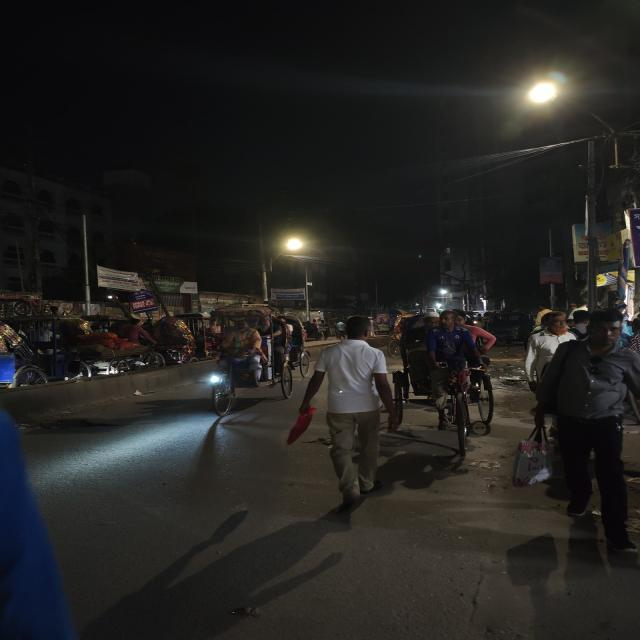pedestrian: (524, 308, 640, 575), (298, 316, 399, 512)
rickshaw: (388, 306, 498, 468), (205, 303, 306, 416), (0, 311, 78, 393), (141, 316, 197, 362)
